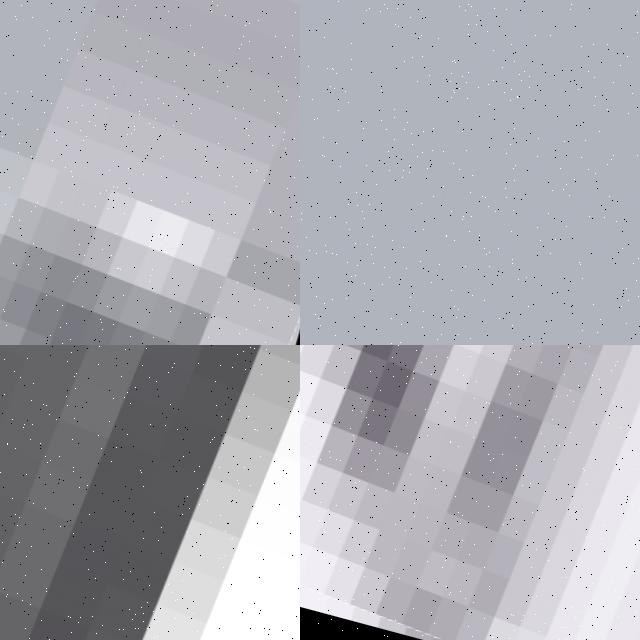drone: (0, 0, 300, 345), (300, 345, 640, 640), (0, 345, 300, 640)
